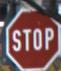Stop sign: (0, 0, 60, 70)
